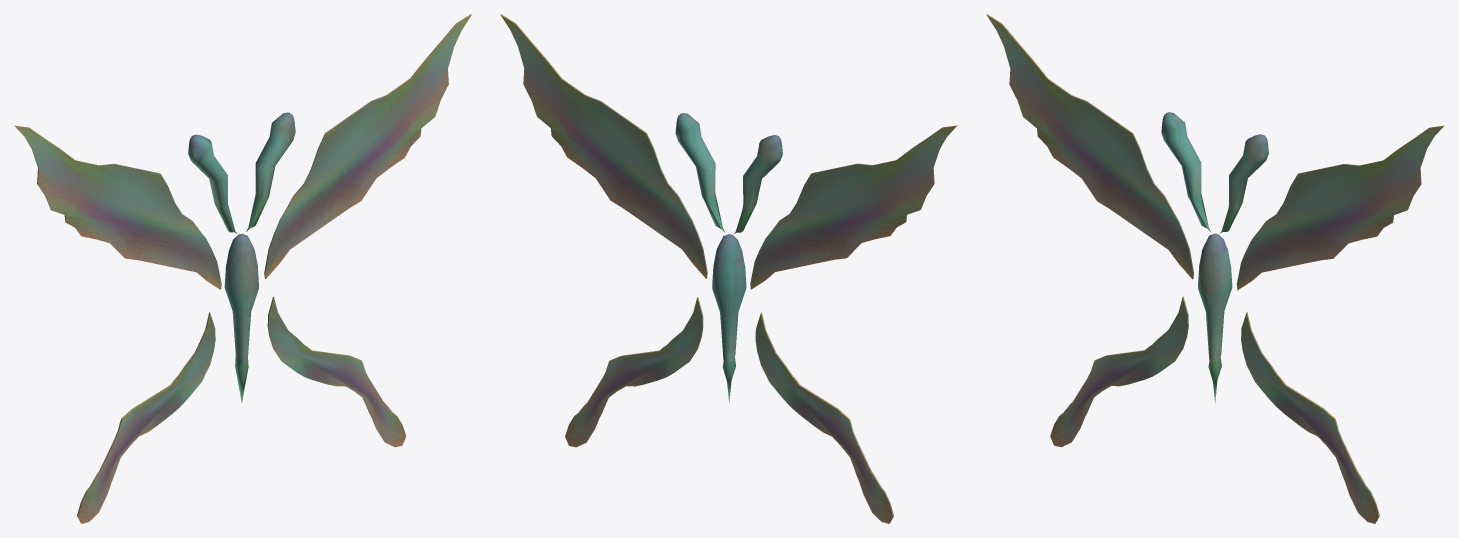
File: pikusi-.fbx
3 views of the same model, side by side, from view 1: azimuth 30°, elevation 25°; view 2: azimuth 150°, elevation 25°; view 3: azimuth 330°, elevation 25° (orthographic).
Visible parts, largest first — view 1: pPlane1, pPlane4, pPlane5, pPlane2, pCube2, pasted__pasted__pCube2, pasted__pasted__pasted__pCube2; view 2: pPlane1, pPlane4, pPlane5, pPlane2, pCube2, pasted__pasted__pCube2, pasted__pasted__pasted__pCube2; view 3: pPlane4, pPlane1, pPlane2, pPlane5, pCube2, pasted__pasted__pasted__pCube2, pasted__pasted__pCube2.
Boxes of the visible parts, x1,y1,x2,y2 form: pPlane1: (264, 14, 471, 278); pPlane4: (14, 125, 221, 289); pPlane5: (77, 312, 215, 523); pPlane2: (267, 297, 406, 447); pCube2: (224, 233, 258, 403); pasted__pasted__pCube2: (246, 112, 295, 231); pasted__pasted__pasted__pCube2: (188, 134, 237, 233); pPlane1: (500, 14, 707, 278); pPlane4: (750, 125, 957, 289); pPlane5: (755, 312, 893, 523); pPlane2: (565, 297, 703, 447); pCube2: (712, 234, 746, 402); pasted__pasted__pCube2: (675, 113, 724, 231); pasted__pasted__pasted__pCube2: (733, 135, 782, 234); pPlane4: (986, 14, 1194, 279); pPlane1: (1236, 125, 1443, 290); pPlane2: (1241, 312, 1379, 523); pPlane5: (1050, 296, 1188, 447); pCube2: (1198, 233, 1232, 403); pasted__pasted__pasted__pCube2: (1161, 112, 1210, 231); pasted__pasted__pCube2: (1219, 134, 1268, 233).
Size of the model in its own units: 54.07 by 46.86 by 3.51.
Materials: 2 (2 with a texture image).
